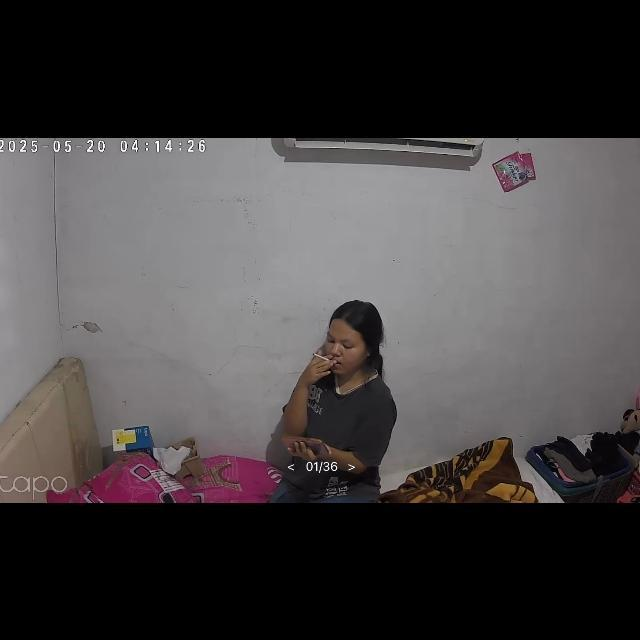rokok: (312, 352, 330, 361)
